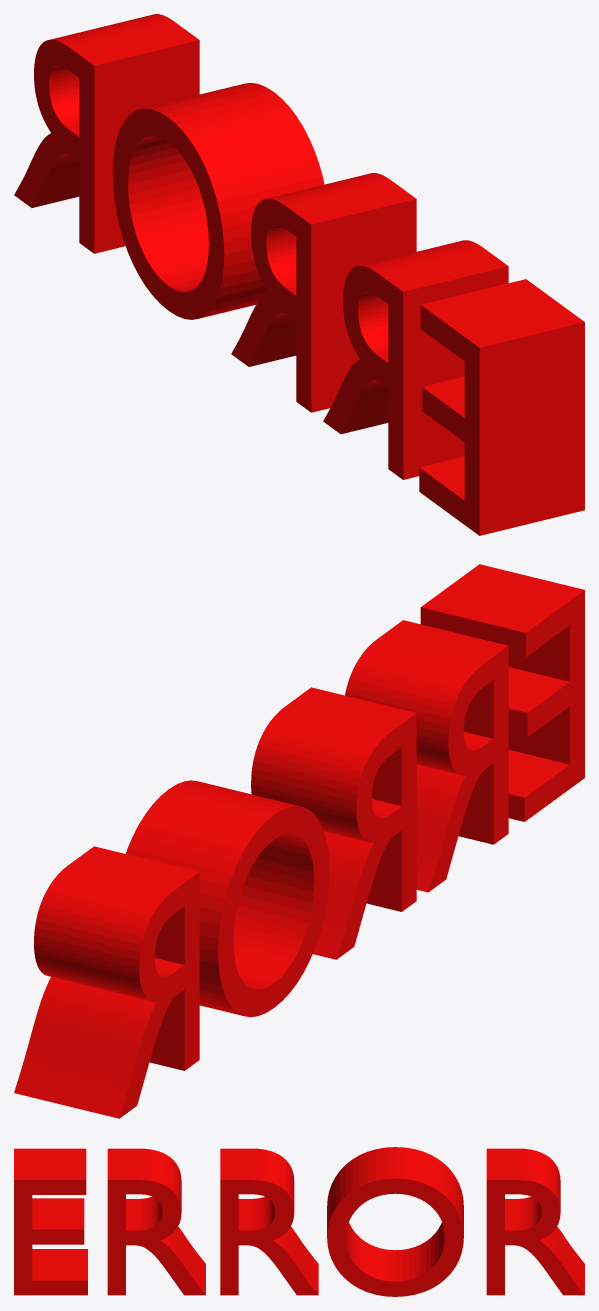
Rendered from modelerror.obj.
The picture shows the model from 3 angles, top to bottom: view 1: azimuth 30°, elevation 25°; view 2: azimuth 150°, elevation 25°; view 3: azimuth 270°, elevation 25°; orthographic projection. The views are drawn at different scales.
Visible parts, largest first — view 1: Text_Mesh; view 2: Text_Mesh; view 3: Text_Mesh.
Boxes of the visible parts, bbox=[...] form: Text_Mesh: bbox=[14, 14, 584, 535]; Text_Mesh: bbox=[14, 564, 584, 1118]; Text_Mesh: bbox=[14, 1147, 584, 1296].
Size of the model in its own units: 0.4 by 0.7 by 3.06.
